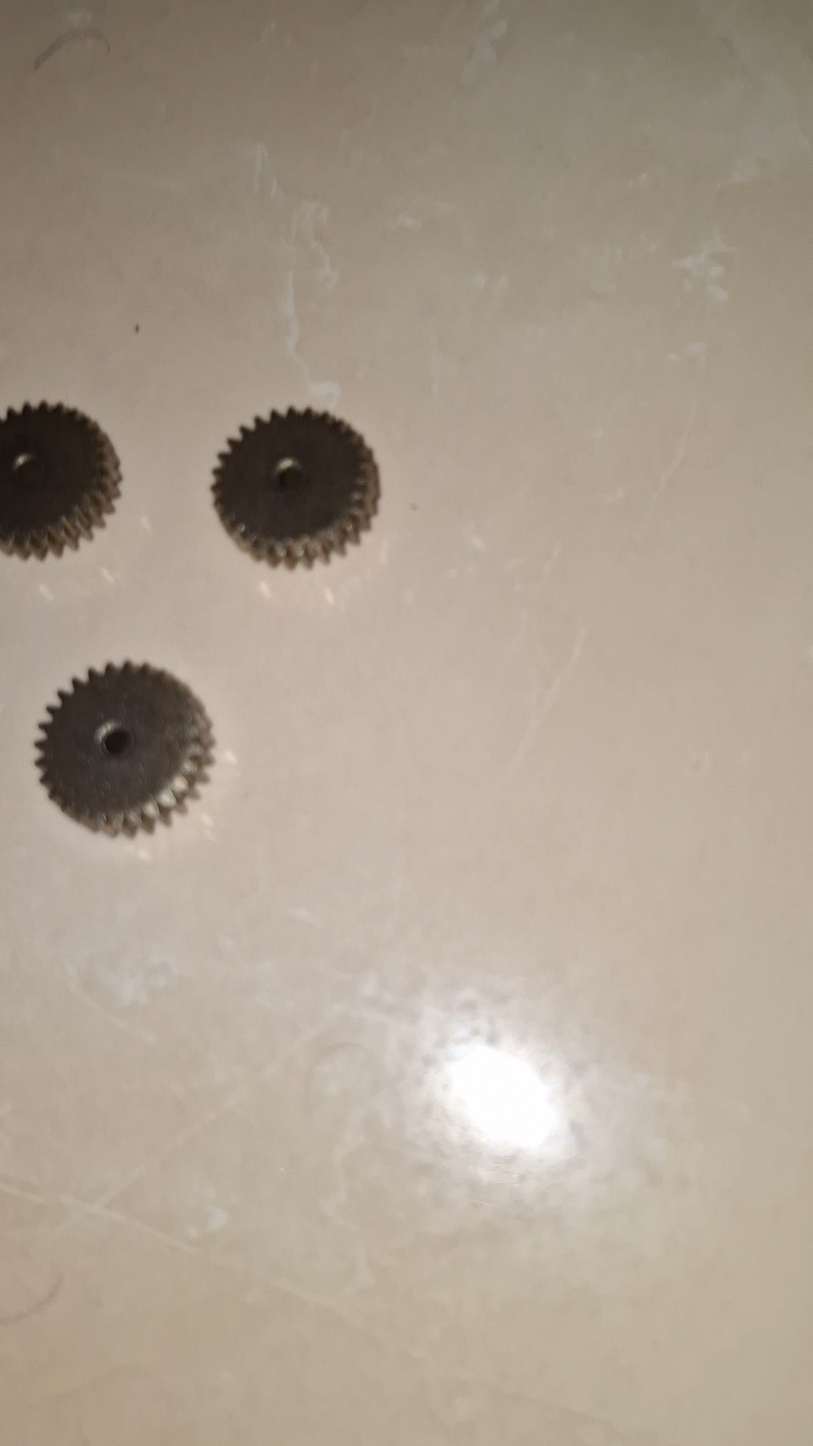spur gear: (36, 662, 212, 834), (212, 409, 379, 567), (0, 403, 120, 558)
